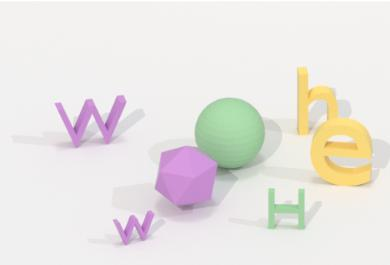0-TronCanh: (192, 93, 269, 172), (149, 140, 219, 213)
H: (264, 184, 309, 235)
W: (52, 93, 130, 151), (110, 207, 157, 251)
e: (308, 116, 377, 188)
h: (292, 63, 340, 140)
